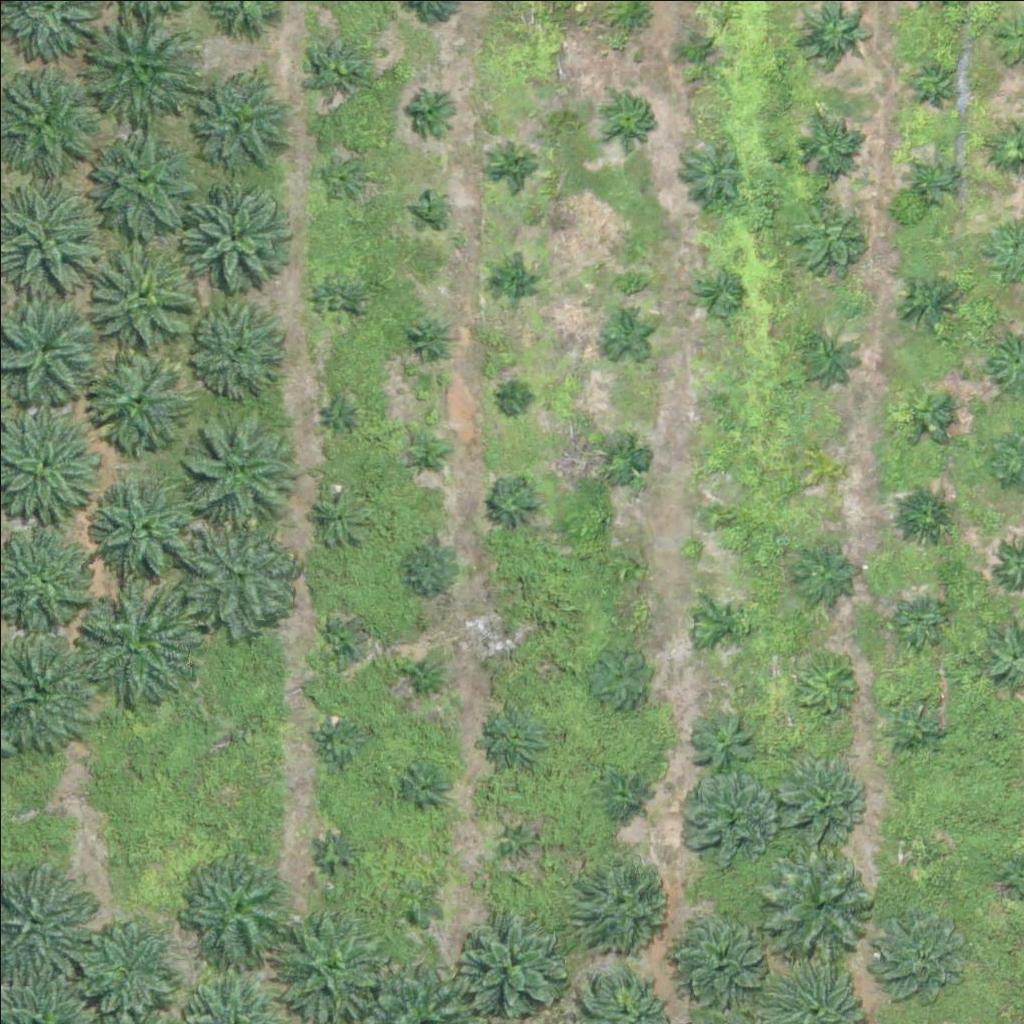Kelapa_Sawit: (71, 577, 196, 703), (70, 907, 183, 1021), (767, 849, 880, 962), (451, 903, 564, 1016), (179, 851, 292, 964), (82, 3, 194, 117), (86, 119, 198, 233), (83, 236, 195, 350), (273, 903, 385, 1016), (183, 517, 295, 630), (174, 411, 286, 524), (870, 905, 970, 1006), (669, 905, 769, 1006), (579, 847, 679, 948), (93, 479, 193, 580), (87, 351, 187, 452), (674, 770, 774, 871), (182, 186, 282, 286), (194, 60, 294, 160), (190, 302, 277, 390), (774, 750, 861, 838), (585, 640, 660, 715), (680, 139, 743, 202), (792, 540, 855, 603), (893, 485, 956, 548), (883, 695, 946, 758), (399, 535, 462, 598), (301, 32, 363, 95), (898, 268, 960, 331), (798, 111, 860, 174), (795, 202, 858, 264), (790, 323, 852, 386), (482, 704, 544, 767), (691, 713, 753, 776), (793, 650, 855, 713), (490, 138, 540, 189), (406, 84, 456, 135), (313, 490, 363, 541), (697, 602, 747, 653), (490, 477, 540, 528), (397, 655, 447, 706), (672, 25, 722, 76), (308, 273, 358, 323), (488, 256, 538, 306), (600, 311, 650, 361), (900, 389, 950, 439), (693, 268, 743, 318), (605, 93, 655, 143), (898, 596, 948, 646), (399, 765, 449, 815), (598, 431, 648, 481), (313, 618, 363, 668), (310, 828, 360, 878), (314, 717, 364, 767), (494, 813, 544, 863), (391, 882, 441, 932), (402, 428, 452, 478), (319, 154, 369, 204), (403, 314, 453, 364), (912, 57, 961, 108), (602, 547, 640, 585), (411, 191, 449, 229), (604, 772, 642, 809), (896, 834, 934, 871), (914, 161, 951, 199), (492, 627, 517, 652), (326, 398, 351, 423), (503, 384, 528, 409), (704, 391, 729, 416), (704, 507, 729, 532), (809, 453, 834, 478), (982, 716, 1007, 741)
